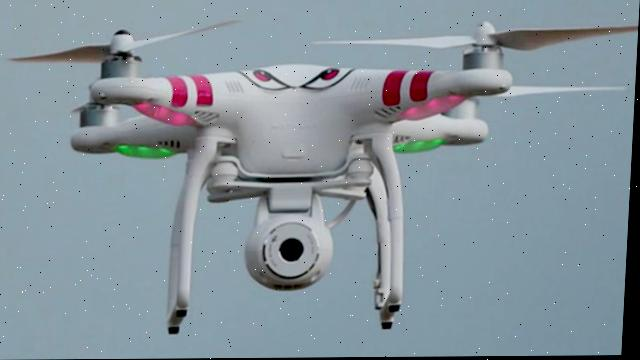drone: (0, 8, 640, 360)
